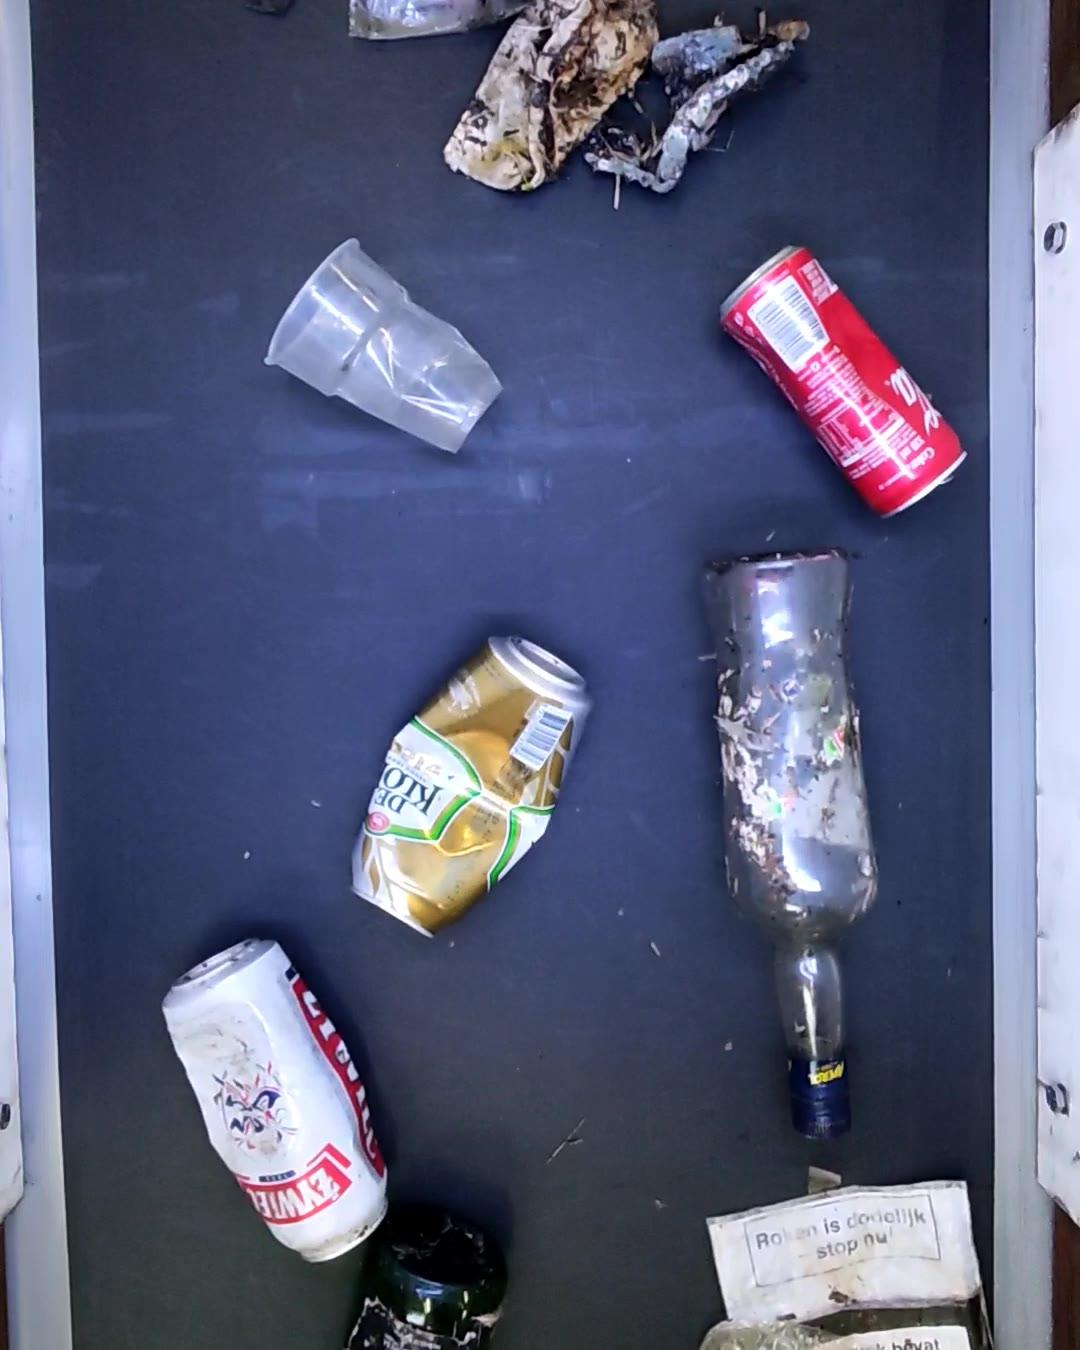Drankblikjes: (347, 631, 594, 943), (164, 939, 397, 1266), (713, 244, 969, 528)
Plastic folies of stukken daarvan 2.5- 50 cm: (343, 0, 549, 45)
